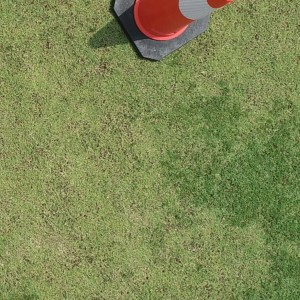traffic cone: (113, 1, 230, 62)
